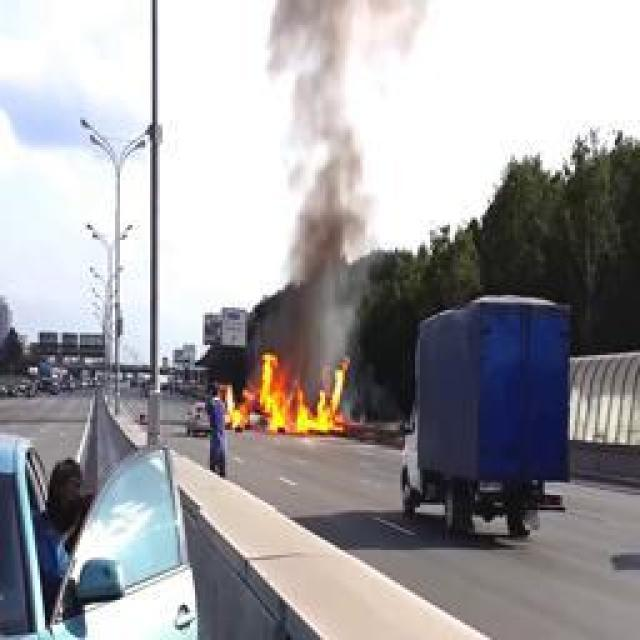Fire: (228, 355, 350, 433)
